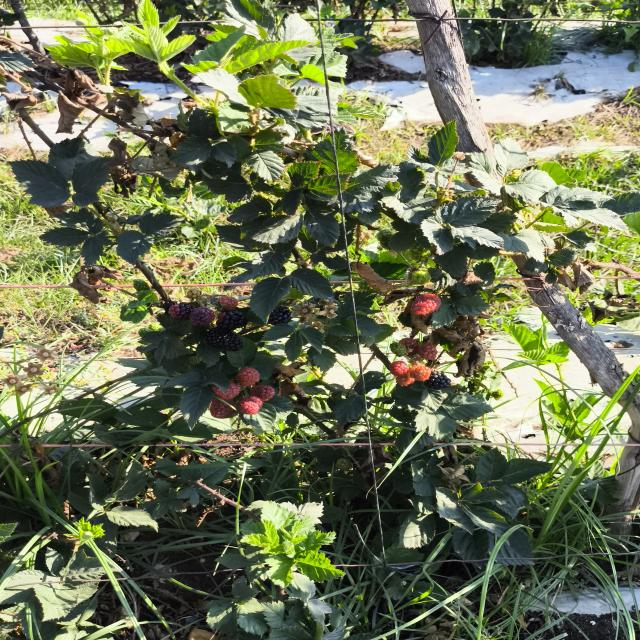maduro: (204, 328, 231, 350), (216, 311, 247, 330), (424, 370, 451, 390), (268, 307, 291, 325)
marron: (189, 307, 215, 326), (167, 303, 196, 319), (217, 296, 239, 311)
naranja: (412, 294, 441, 315), (212, 382, 241, 401), (210, 399, 237, 418), (238, 396, 262, 415), (237, 367, 260, 386), (250, 385, 275, 401), (409, 365, 431, 381), (400, 337, 420, 354), (418, 343, 437, 360), (390, 360, 409, 376), (396, 373, 415, 386)
